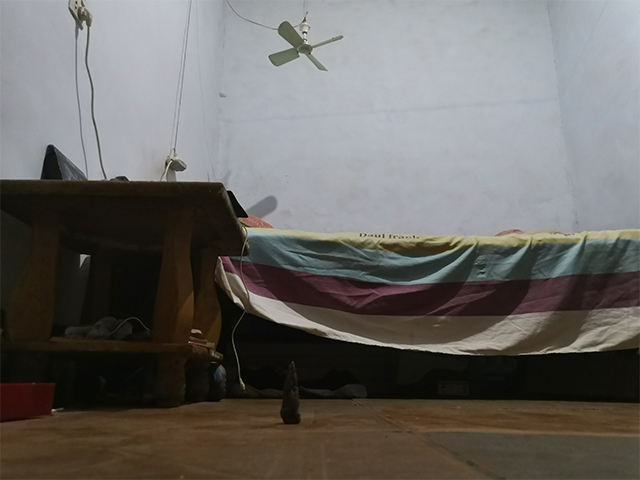bed: (216, 224, 640, 402)
feces: (277, 359, 303, 426)
table: (1, 178, 253, 410)
